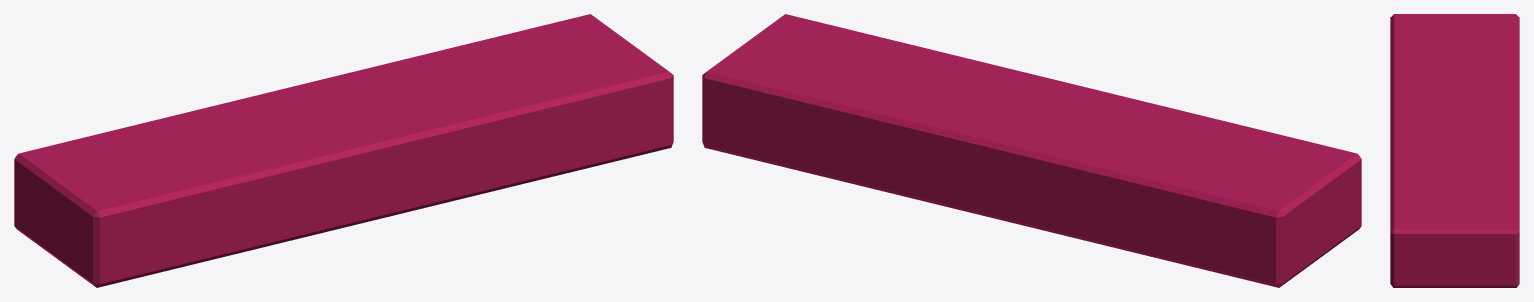
3 renders of one model, left to right at view 1: azimuth 30°, elevation 25°; view 2: azimuth 150°, elevation 25°; view 3: azimuth 270°, elevation 25°, orthographic. The views are drawn at different scales.
Visible parts, largest first — view 1: Part_4X1X0_low; view 2: Part_4X1X0_low; view 3: Part_4X1X0_low.
Boxes of the visible parts, bbox=[...] form: Part_4X1X0_low: bbox=[14, 14, 673, 287]; Part_4X1X0_low: bbox=[702, 14, 1361, 287]; Part_4X1X0_low: bbox=[1390, 14, 1519, 287].
Bounding box in the file's own units: 400 × 50 × 100.
